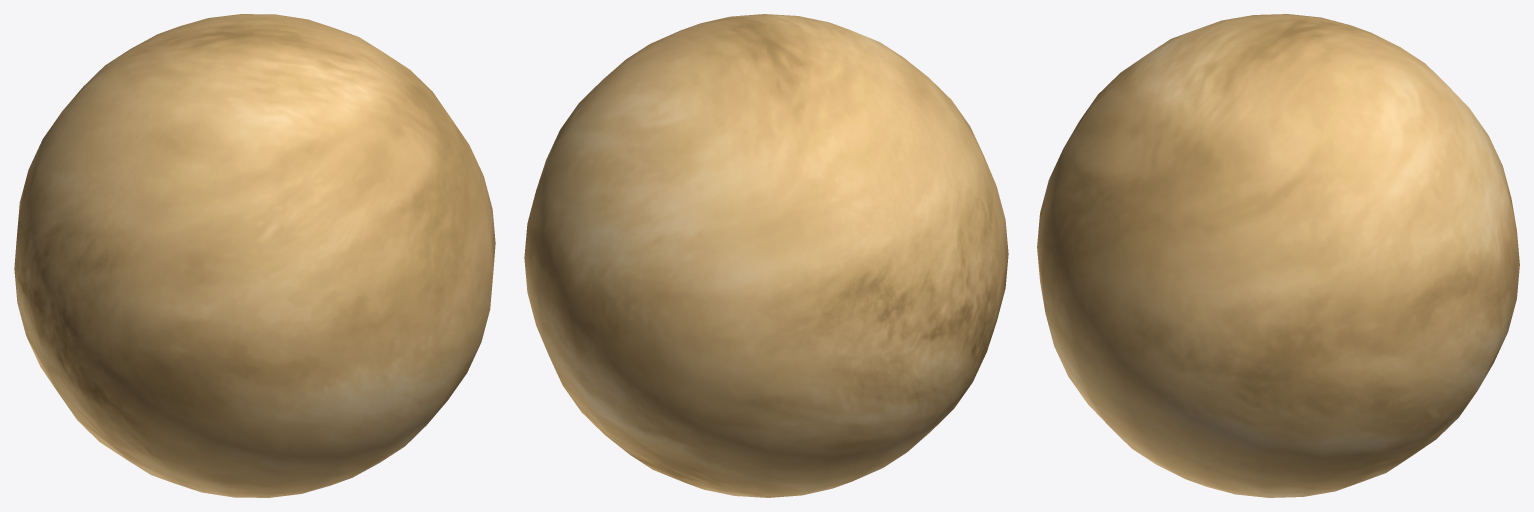
File: venus.fbx
3 views of the same model, side by side, from view 1: azimuth 30°, elevation 25°; view 2: azimuth 150°, elevation 25°; view 3: azimuth 270°, elevation 25° (orthographic).
Parts seen in each view (by area): view 1: pasted__venus2; view 2: pasted__venus2; view 3: pasted__venus2.
Boxes of the visible parts, <box> form: pasted__venus2: <box>14,14,495,497</box>; pasted__venus2: <box>524,14,1008,497</box>; pasted__venus2: <box>1037,14,1519,497</box>.
Size of the model in its own units: 59.92 by 60.14 by 59.92.
Materials: 1 (1 with a texture image).
